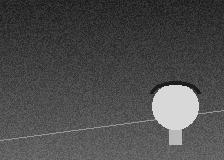no_helmet: (152, 81, 198, 134)
